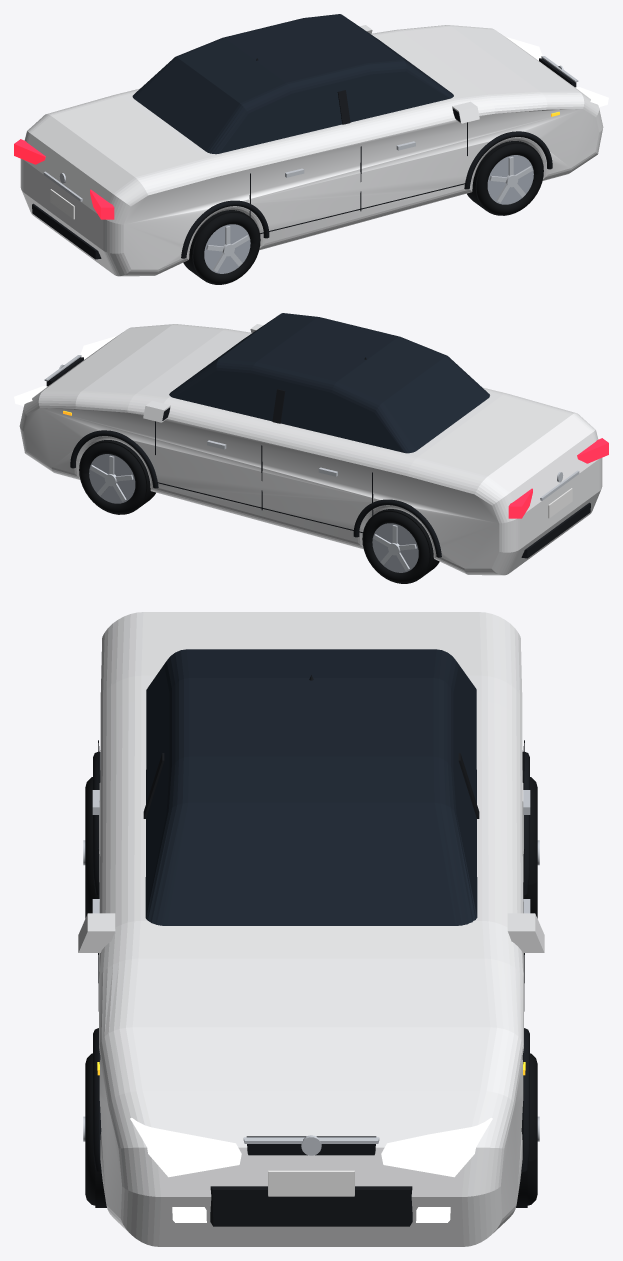
Rendered from car_sedan.glb.
3 renders of one model, top to bottom at view 1: azimuth 30°, elevation 25°; view 2: azimuth 150°, elevation 25°; view 3: azimuth 270°, elevation 25°, orthographic. The views are drawn at different scales.
Visible parts, largest first — view 1: body_shell, glass_cabin, wheel_FR_sidewall, wheel_RR_sidewall, wheel_RR_rim, wheel_FR_rim, arch_R_R, arch_F_R, rear_diffuser, wheel_FR_tire, wheel_RR_tire, taillight_L (+2 smaller); view 2: body_shell, glass_cabin, wheel_FL_sidewall, wheel_RL_sidewall, wheel_RL_rim, wheel_FL_rim, arch_R_L, arch_F_L, rear_diffuser, wheel_FL_tire, wheel_RL_tire, taillight_R (+2 smaller); view 3: body_shell, glass_cabin, grille_lower, headlight_L, headlight_R, plate_front, grille_upper, wheel_FL_sidewall, wheel_FR_sidewall, mirror_R, mirror_L, wheel_RL_sidewall (+4 smaller).
Part boxes in pixels (x1,y1,x2,y2): body_shell: (20,25,603,276); glass_cabin: (132,14,453,154); wheel_FR_sidewall: (476,143,543,214); wheel_RR_sidewall: (193,213,259,283); wheel_RR_rim: (204,224,250,273); wheel_FR_rim: (487,155,533,204); arch_R_R: (181,200,269,258); arch_F_R: (464,131,552,189); rear_diffuser: (32,203,101,259); wheel_FR_tire: (467,141,543,215); wheel_RR_tire: (183,210,260,284); taillight_L: (14,139,45,164); body_shell: (19,324,602,575); glass_cabin: (169,313,489,453); wheel_FL_sidewall: (79,442,146,513); wheel_RL_sidewall: (363,512,429,582); wheel_RL_rim: (372,523,418,572); wheel_FL_rim: (89,454,135,503); arch_R_L: (353,499,441,557); arch_F_L: (70,430,158,488); rear_diffuser: (521,502,590,558); wheel_FL_tire: (79,440,155,514); wheel_RL_tire: (362,509,439,583); taillight_R: (577,438,608,463); body_shell: (99,612,523,1246); glass_cabin: (145,649,477,925); grille_lower: (210,1186,412,1226); headlight_L: (381,1118,492,1177); headlight_R: (130,1118,241,1177); plate_front: (268,1170,354,1196); grille_upper: (246,1136,376,1155); wheel_FL_sidewall: (527,1053,537,1205); wheel_FR_sidewall: (85,1053,95,1205); mirror_R: (78,913,115,952); mirror_L: (507,913,544,952); wheel_RL_sidewall: (527,777,537,918).
Bounding box in the file's own units: 5 × 1.54 × 1.95.
